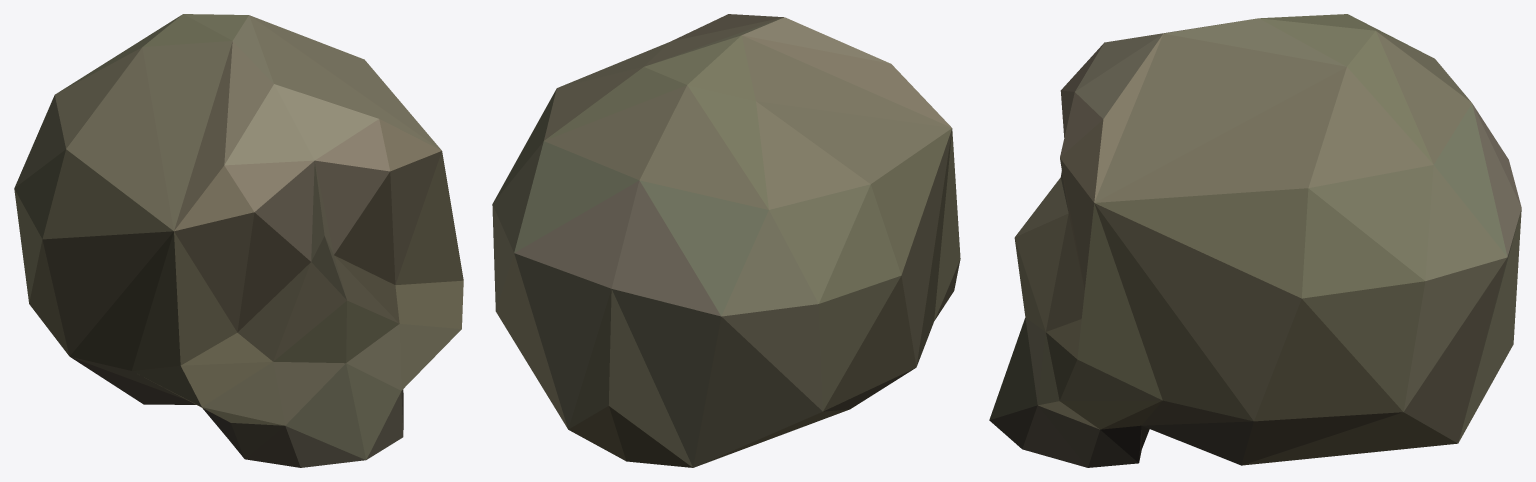
The model's file is prop_junk_skull.fbx.
3 renders of one model, left to right at view 1: azimuth 30°, elevation 25°; view 2: azimuth 150°, elevation 25°; view 3: azimuth 270°, elevation 25°, orthographic. The views are drawn at different scales.
Parts seen in each view (by area): view 1: prop_junk_skull; view 2: prop_junk_skull; view 3: prop_junk_skull.
Boxes of the visible parts, x1,y1,x2,y2 form: prop_junk_skull: (14,14,463,467); prop_junk_skull: (492,14,960,467); prop_junk_skull: (989,14,1521,467).
Size of the model in its own units: 1.01 by 0.9444 by 1.1.
